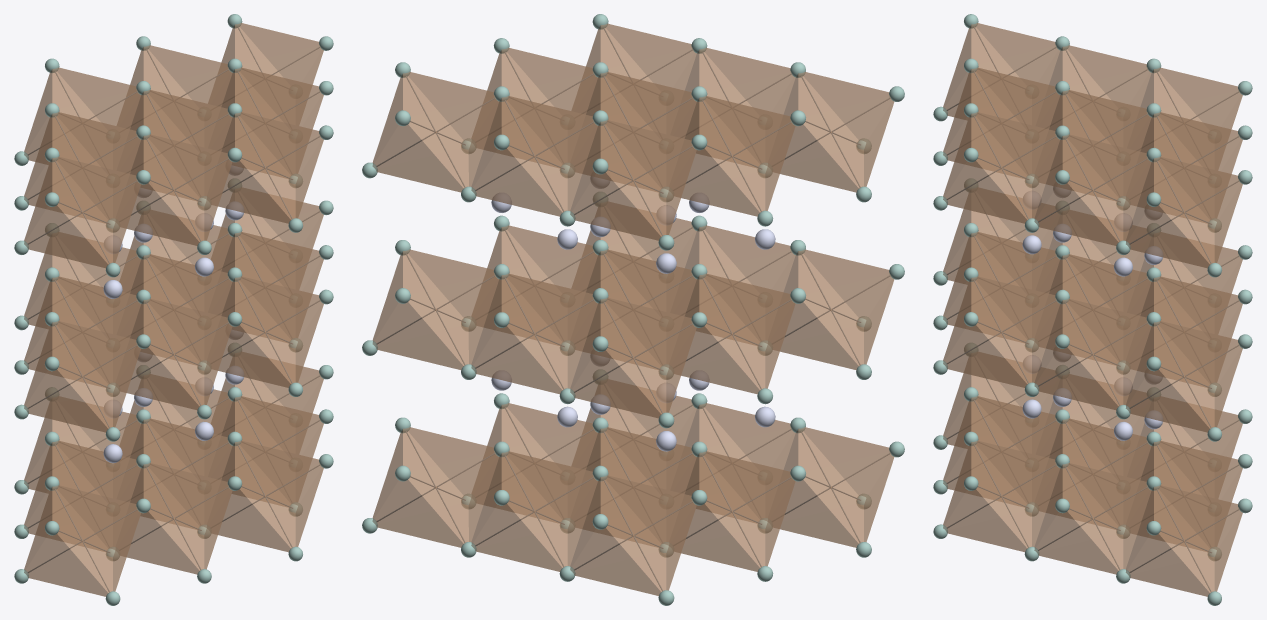
The picture shows the model from 3 angles, left to right: view 1: azimuth 30°, elevation 25°; view 2: azimuth 150°, elevation 25°; view 3: azimuth 270°, elevation 25°; orthographic projection. The views are drawn at different scales.
Visible parts, largest first — view 1: Shape_IndexedFaceSet, atom0_IndexedFaceSet, Shape_Cylinder, atom2_IndexedFaceSet; view 2: Shape_IndexedFaceSet, atom0_IndexedFaceSet, Shape_Cylinder, atom2_IndexedFaceSet; view 3: Shape_IndexedFaceSet, atom0_IndexedFaceSet, Shape_Cylinder, atom2_IndexedFaceSet.
Part boxes in pixels (x1,y1,x2,y2): Shape_IndexedFaceSet: (24, 23, 323, 596); atom0_IndexedFaceSet: (14, 14, 333, 605); Shape_Cylinder: (27, 27, 319, 591); atom2_IndexedFaceSet: (103, 165, 243, 463); Shape_IndexedFaceSet: (372, 23, 894, 595); atom0_IndexedFaceSet: (362, 14, 904, 605); Shape_Cylinder: (376, 28, 890, 590); atom2_IndexedFaceSet: (491, 176, 775, 451); Shape_IndexedFaceSet: (943, 23, 1242, 596); atom0_IndexedFaceSet: (933, 14, 1252, 605); Shape_Cylinder: (946, 27, 1238, 591); atom2_IndexedFaceSet: (1022, 186, 1162, 440).
Size of the model in its own units: 15.17 by 15.8 by 11.09.
